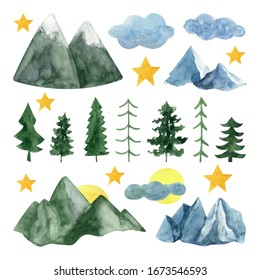cloud: (105, 12, 176, 51), (182, 12, 247, 42), (123, 181, 186, 200)
moon: (144, 166, 186, 207), (73, 179, 110, 207)
tree: (148, 98, 189, 166), (14, 101, 44, 164), (115, 98, 144, 163), (83, 96, 111, 163), (215, 116, 250, 164), (49, 111, 76, 166), (193, 96, 211, 162)
